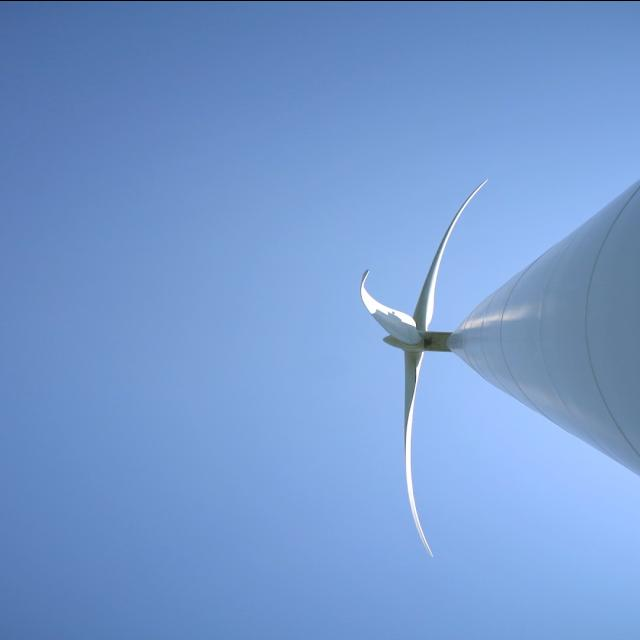blade 1: (348, 224, 420, 331)
blade 2: (426, 170, 501, 272)
blade 3: (371, 358, 452, 580)
